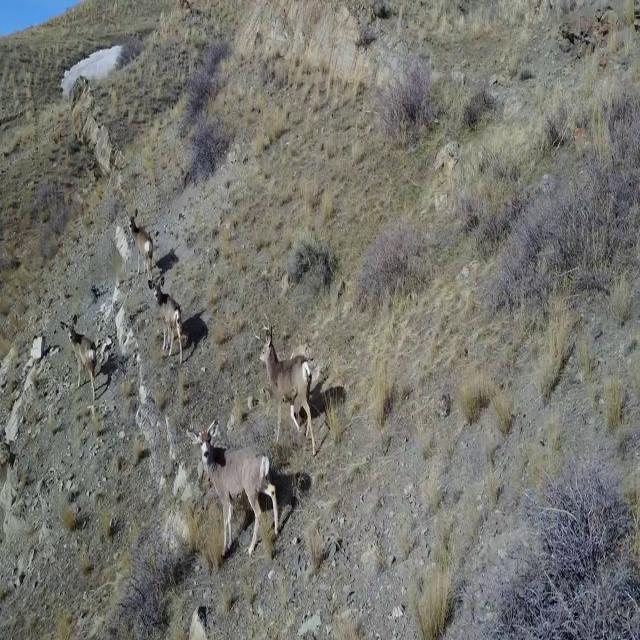Deer: (185, 415, 281, 557), (252, 309, 318, 441), (62, 312, 100, 397), (152, 277, 188, 363), (125, 204, 156, 279)
